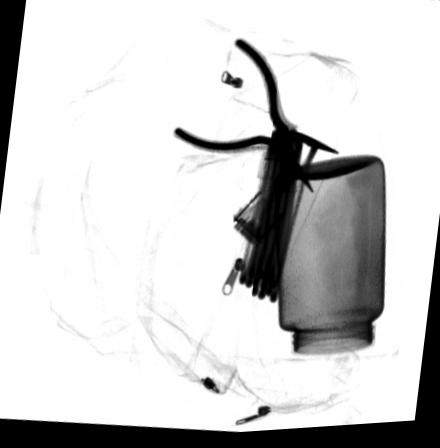Pliers: (170, 40, 341, 200)
